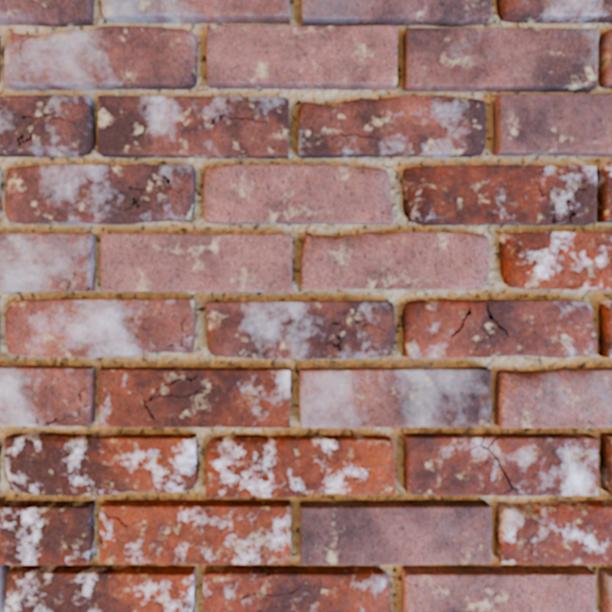brick: (203, 500, 490, 611), (207, 0, 490, 89), (0, 501, 194, 611), (404, 28, 611, 91), (403, 163, 611, 224), (4, 26, 196, 89), (100, 500, 289, 563), (5, 433, 197, 495), (404, 433, 597, 494), (98, 96, 288, 157), (206, 435, 394, 496), (300, 367, 490, 426), (299, 96, 484, 156), (99, 368, 289, 426), (402, 300, 595, 357), (6, 165, 194, 223), (204, 165, 392, 223), (101, 234, 291, 291), (6, 299, 195, 355), (205, 301, 393, 357), (301, 232, 488, 288), (402, 566, 594, 611), (495, 500, 611, 563), (494, 94, 611, 155), (495, 368, 611, 427), (499, 232, 611, 288), (0, 96, 95, 156), (0, 366, 94, 425), (0, 233, 94, 290), (102, 0, 289, 22), (497, 0, 611, 22), (0, 0, 93, 26), (599, 300, 611, 356), (600, 433, 611, 493), (599, 568, 611, 611), (0, 169, 3, 218), (0, 439, 1, 485), (0, 37, 1, 83), (0, 309, 1, 355)
crack: (467, 436, 518, 496), (34, 385, 90, 426), (536, 182, 562, 223), (565, 179, 587, 223), (99, 506, 128, 527), (0, 563, 10, 611), (18, 36, 32, 59), (98, 533, 118, 548), (65, 266, 76, 290), (483, 404, 491, 414), (85, 286, 90, 291)
